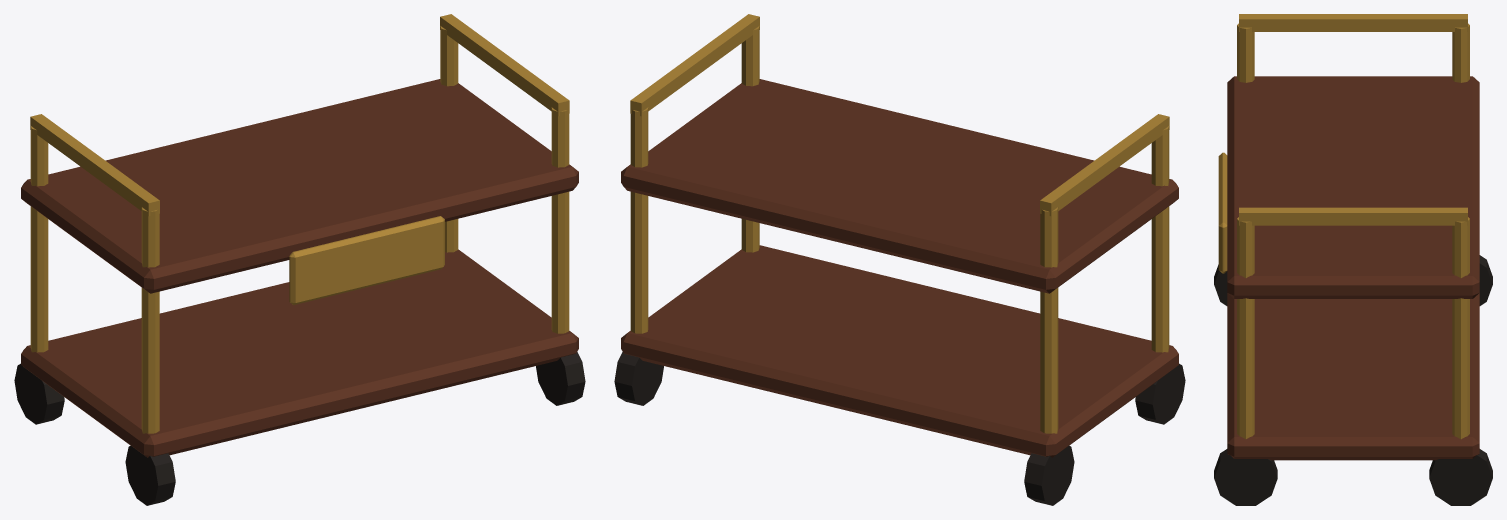
Rendered from cart.glb.
3 renders of one model, left to right at view 1: azimuth 30°, elevation 25°; view 2: azimuth 150°, elevation 25°; view 3: azimuth 270°, elevation 25°, orthographic. The views are drawn at different scales.
Visible parts, largest first — view 1: Body_mesh, NamePlate_mesh; view 2: Body_mesh; view 3: Body_mesh, NamePlate_mesh.
Boxes of the visible parts, left/top/right/bottom form: Body_mesh: left=14, top=14, right=585, bottom=505; NamePlate_mesh: left=289, top=216, right=444, bottom=305; Body_mesh: left=614, top=14, right=1185, bottom=505; Body_mesh: left=1214, top=14, right=1492, bottom=505; NamePlate_mesh: left=1218, top=152, right=1227, bottom=273.
Bounding box in the file's own units: 1.04 × 0.6877 × 0.596.
